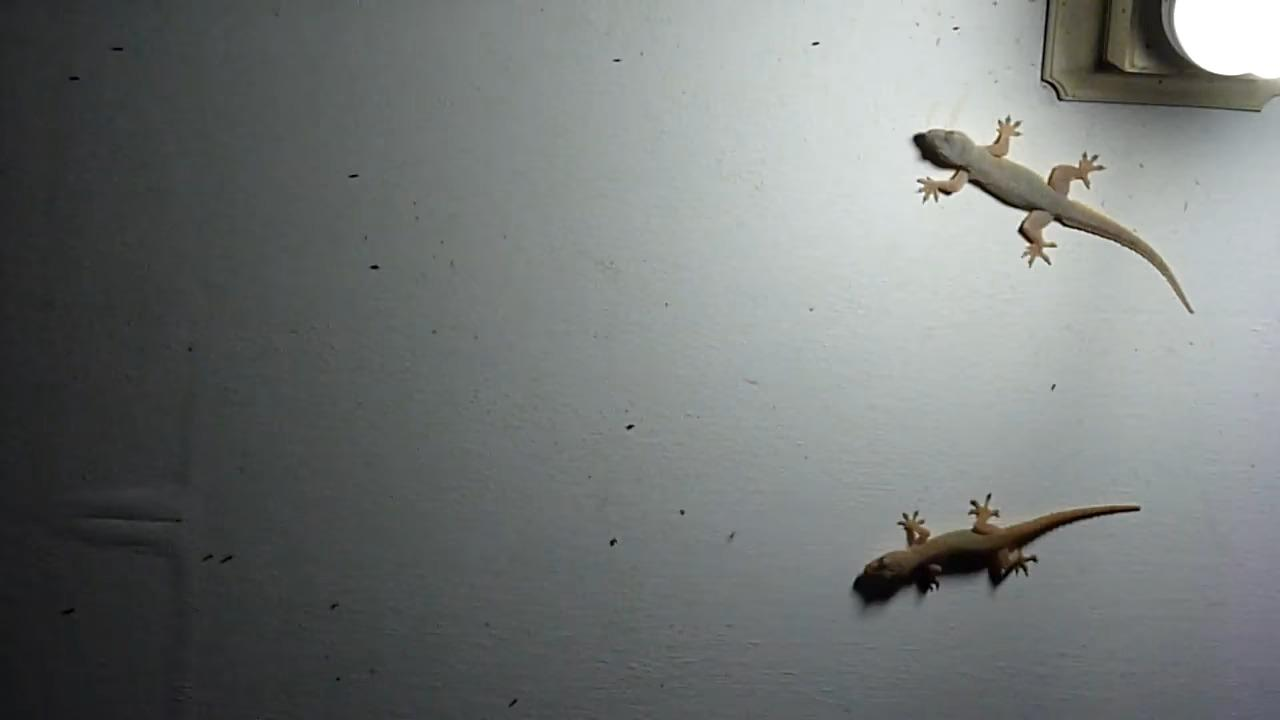lizard: (897, 94, 1219, 318), (850, 450, 1185, 611)
